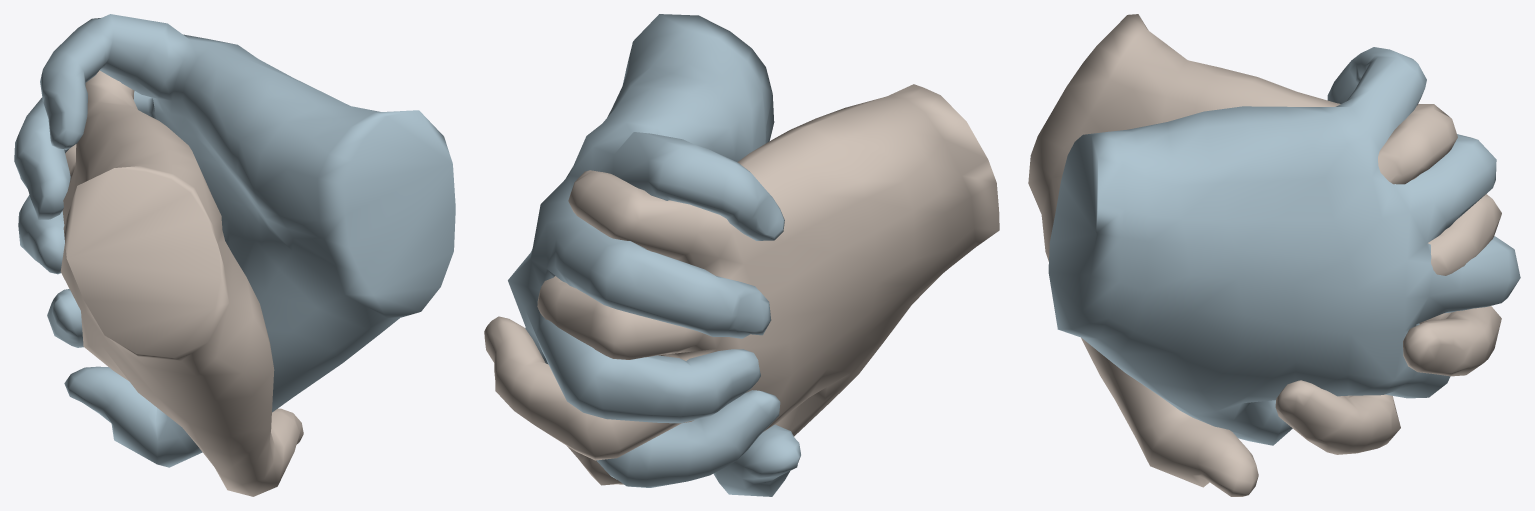
The model's file is pred_2.glb.
3 renders of one model, left to right at view 1: azimuth 30°, elevation 25°; view 2: azimuth 150°, elevation 25°; view 3: azimuth 270°, elevation 25°, orthographic. The views are drawn at different scales.
Bounding box in the file's own units: 0.1225 × 0.1267 × 0.1408.
